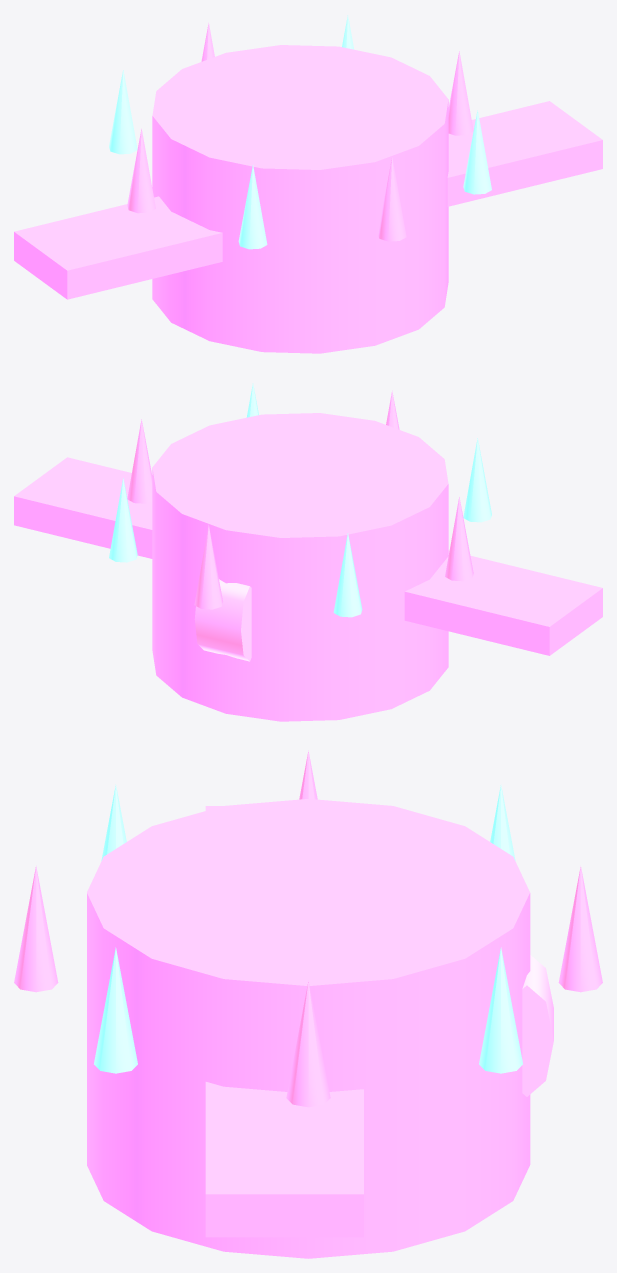
Rendered from region-boss-balanced.glb.
The picture shows the model from 3 angles, top to bottom: view 1: azimuth 30°, elevation 25°; view 2: azimuth 150°, elevation 25°; view 3: azimuth 270°, elevation 25°; orthographic projection. The views are drawn at different scales.
Parts seen in each view (by area): view 1: BOSS_CORE_BODY, LEFT_WING, RIGHT_WING, ENERGY_CROWN_3, ENERGY_CROWN_1, ENERGY_CROWN_2, ENERGY_CROWN_4, ENERGY_CROWN_5, ENERGY_CROWN_0; view 2: BOSS_CORE_BODY, LEFT_WING, RIGHT_WING, BOSS_HEART, ENERGY_CROWN_5, ENERGY_CROWN_7, ENERGY_CROWN_4, ENERGY_CROWN_6, ENERGY_CROWN_3, ENERGY_CROWN_0; view 3: BOSS_CORE_BODY, RIGHT_WING, BOSS_HEART, ENERGY_CROWN_0, ENERGY_CROWN_2, ENERGY_CROWN_6, ENERGY_CROWN_1, ENERGY_CROWN_7, ENERGY_CROWN_3, ENERGY_CROWN_5.
Boxes of the visible parts, bbox=[...] form: BOSS_CORE_BODY: bbox=[152, 45, 448, 353]; LEFT_WING: bbox=[14, 196, 222, 299]; RIGHT_WING: bbox=[447, 101, 602, 206]; ENERGY_CROWN_3: bbox=[238, 165, 267, 249]; ENERGY_CROWN_1: bbox=[463, 110, 491, 194]; ENERGY_CROWN_2: bbox=[378, 157, 406, 241]; ENERGY_CROWN_4: bbox=[127, 129, 155, 213]; ENERGY_CROWN_5: bbox=[109, 70, 137, 154]; ENERGY_CROWN_0: bbox=[448, 51, 473, 135]; BOSS_CORE_BODY: bbox=[152, 413, 448, 721]; LEFT_WING: bbox=[404, 550, 602, 655]; RIGHT_WING: bbox=[14, 457, 152, 558]; BOSS_HEART: bbox=[194, 579, 251, 661]; ENERGY_CROWN_5: bbox=[333, 533, 362, 617]; ENERGY_CROWN_7: bbox=[109, 478, 137, 562]; ENERGY_CROWN_4: bbox=[445, 497, 473, 581]; ENERGY_CROWN_6: bbox=[194, 525, 222, 609]; ENERGY_CROWN_3: bbox=[463, 438, 491, 522]; ENERGY_CROWN_0: bbox=[127, 419, 152, 503]; BOSS_CORE_BODY: bbox=[87, 799, 530, 1258]; RIGHT_WING: bbox=[205, 1082, 363, 1237]; BOSS_HEART: bbox=[522, 955, 553, 1096]; ENERGY_CROWN_0: bbox=[286, 980, 330, 1107]; ENERGY_CROWN_2: bbox=[14, 865, 58, 992]; ENERGY_CROWN_6: bbox=[558, 865, 602, 992]; ENERGY_CROWN_1: bbox=[94, 947, 137, 1073]; ENERGY_CROWN_7: bbox=[479, 947, 522, 1073]; ENERGY_CROWN_3: bbox=[101, 784, 126, 860]; ENERGY_CROWN_5: bbox=[490, 784, 515, 860].
Bounding box in the file's own units: 5.8 × 2.09 × 3.72.
